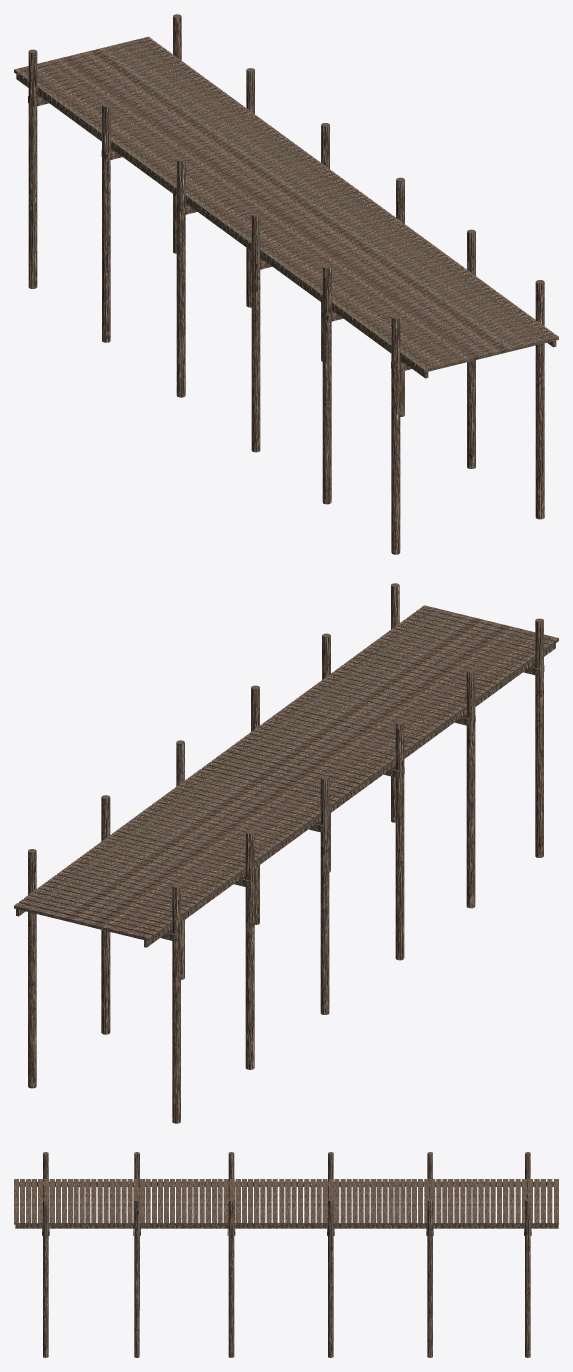
Rendered from UDC_DockBridge.obj.
The picture shows the model from 3 angles, top to bottom: view 1: azimuth 30°, elevation 25°; view 2: azimuth 150°, elevation 25°; view 3: azimuth 270°, elevation 25°; orthographic projection. The views are drawn at different scales.
Parts seen in each view (by area): view 1: UDC_DockBridge; view 2: UDC_DockBridge; view 3: UDC_DockBridge.
Part boxes in pixels (<box>): UDC_DockBridge: <box>14,14,558,554</box>; UDC_DockBridge: <box>14,583,558,1123</box>; UDC_DockBridge: <box>14,1152,558,1357</box>.
Size of the model in its own units: 1.59 by 2.36 by 7.45.
Materials: 1 (1 with a texture image).
